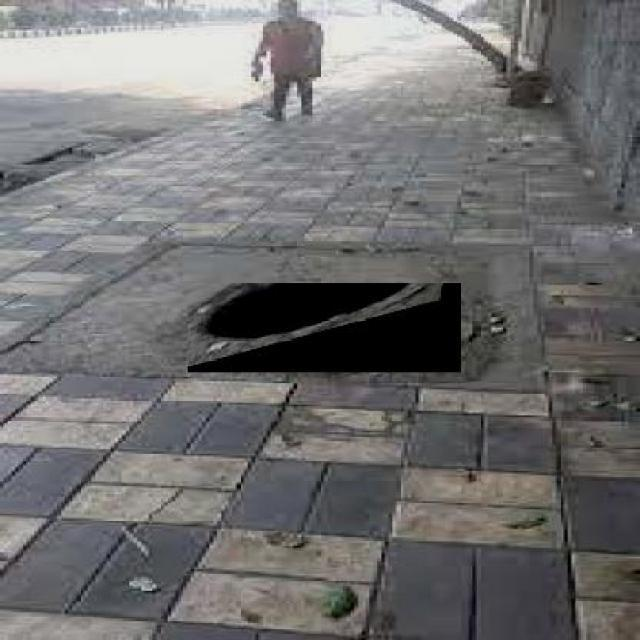Open Manhole: (188, 283, 460, 372)
Pothole: (15, 140, 106, 170)
